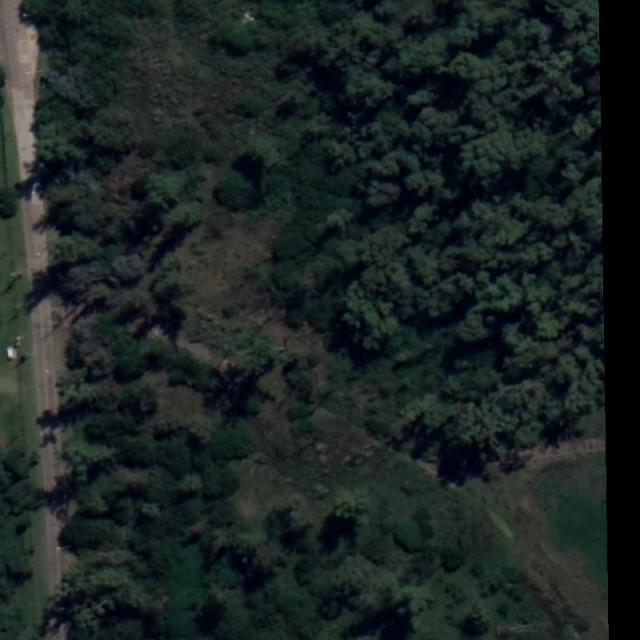vehicle: (14, 336, 22, 347)
